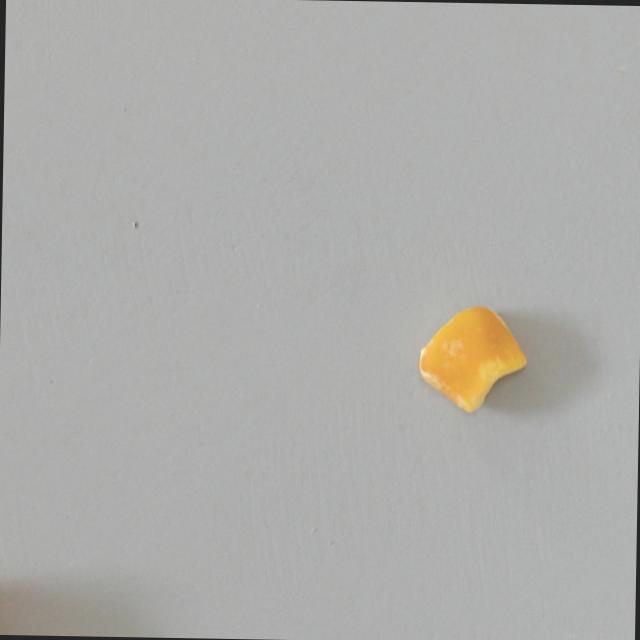pelicula: (411, 296, 531, 418)
